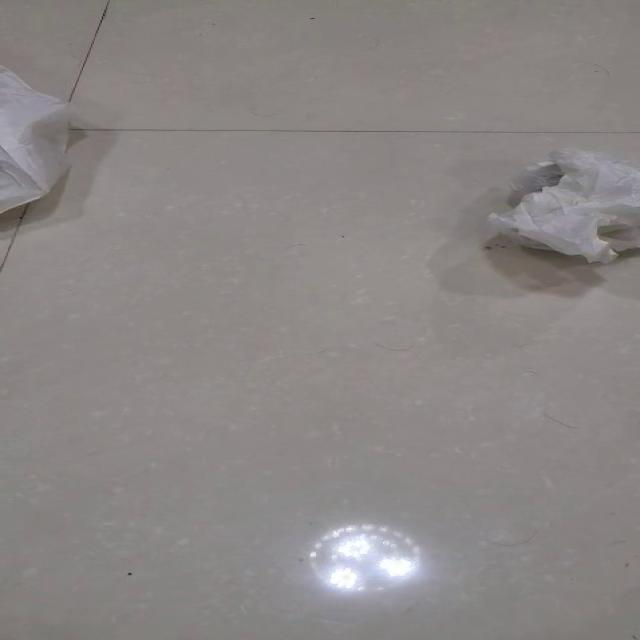plastic: (484, 146, 638, 264), (0, 64, 74, 214)
